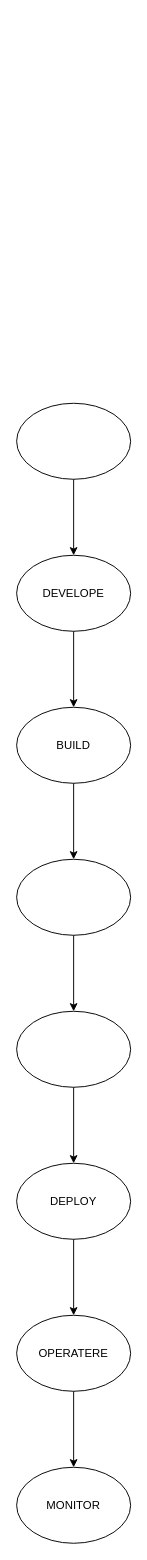
Image size: 147x1560. Some labels were removed from this diagram. Each missing label, with the box of its shape:
PLAN: (16, 402, 131, 479)
RELEASE: (16, 1010, 131, 1087)
TEST: (16, 858, 131, 935)
